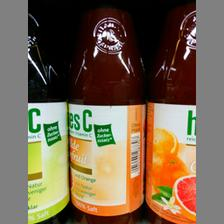Saft: (68, 5, 146, 223), (145, 5, 195, 223), (28, 10, 70, 222)
